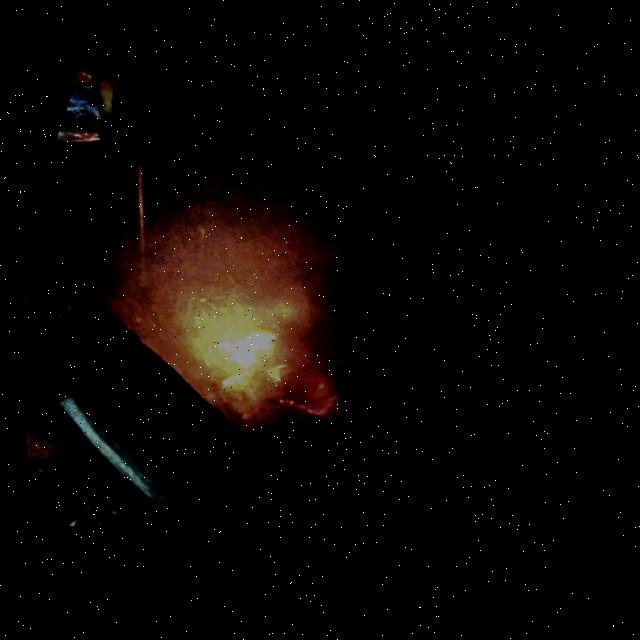Fire: (207, 315, 286, 393)
